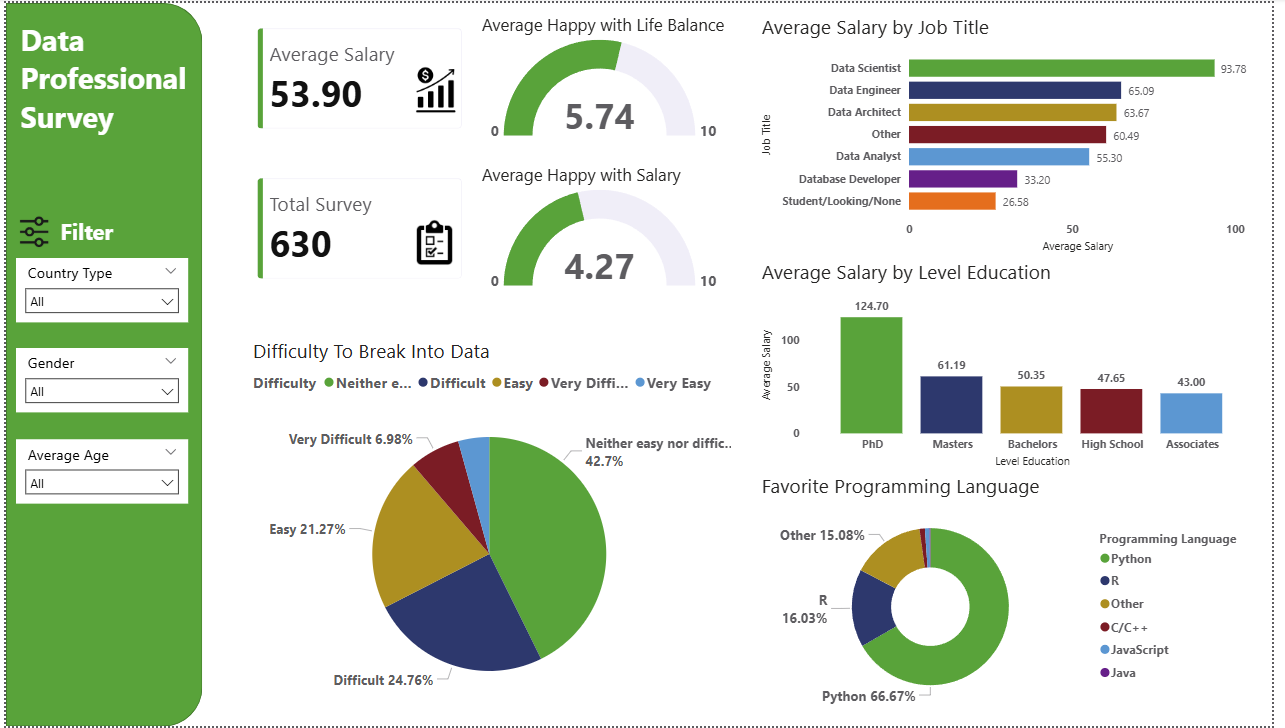

This screenshot's page, from the dashboard's own definition file:
{"tool":"powerbi","page":{"name":"Page 1","canvas":[1400,800],"ordinal":0},"visuals":[{"type":"shape","box":[0,0,217.1,800],"z":0},{"type":"textbox","box":[11.4,14.3,217.1,162.9],"z":1000},{"type":"cardVisual","fields":{"Data":["Avg(Data Professional Survey.Average Salary)"]},"box":[261.4,11.4,260,145.7],"z":2000},{"type":"gauge","title":"Average Happy with Salary","fields":{"Y":["Avg(Data Professional Survey.Q6 - How Happy are you in your Current Position with the following? (Salary))"],"MinValue":["Min(Data Professional Survey.Q6 - How Happy are you in your Current Position with the following? (Salary))"],"MaxValue":["Max(Data Professional Survey.Q6 - How Happy are you in your Current Position with the following? (Salary))"]},"box":[521.4,177.1,280,145.7],"z":3000},{"type":"gauge","title":"Average Happy with Life Balance","fields":{"Y":["Avg(Data Professional Survey.Q6 - How Happy are you in your Current Position with the following? (Work/Life Balance))"],"MinValue":["Min(Data Professional Survey.Q6 - How Happy are you in your Current Position with the following? (Work/Life Balance))"],"MaxValue":["Max(Data Professional Survey.Q6 - How Happy are you in your Current Position with the following? (Work/Life Balance))"]},"box":[521.4,11.4,280,145.7],"z":4000},{"type":"cardVisual","fields":{"Data":["CountNonNull(Data Professional Survey.Unique ID)"]},"box":[261.4,177.1,260,145.7],"z":5000},{"type":"barChart","title":"Average Salary by Job Title","fields":{"Category":["Data Professional Survey.Q1 - Which Title Best Fits your Current Role?.1"],"Y":["Avg(Data Professional Survey.Average Salary)"],"Series":["Data Professional Survey.Q1 - Which Title Best Fits your Current Role?.1"]},"box":[830,11.4,557.1,270],"z":6000},{"type":"donutChart","title":"Favorite Programming Language","fields":{"Category":["Data Professional Survey.Q5 - Favorite Programming Language.1"],"Y":["CountNonNull(Data Professional Survey.Unique ID)"]},"box":[830,518.6,557.1,270],"z":7000},{"type":"columnChart","title":"Average Salary by Level Education","fields":{"Category":["Data Professional Survey.Q12 - Highest Level of Education"],"Y":["Avg(Data Professional Survey.Average Salary)"],"Series":["Data Professional Survey.Q12 - Highest Level of Education"]},"box":[830,281.4,557.1,237.1],"z":8000},{"type":"slicer","fields":{"Values":["Data Professional Survey.Q11 - Which Country do you live in?.1"]},"box":[11.4,281.4,190,71.4],"z":9000},{"type":"slicer","fields":{"Values":["Data Professional Survey.Q9 - Male/Female?"]},"box":[11.4,381.4,190,71.4],"z":10000},{"type":"slicer","fields":{"Values":["Data Professional Survey.Age (Bins)"]},"box":[11.4,482.9,190,71.4],"z":11000},{"type":"pieChart","title":"Difficulty To Break Into Data","fields":{"Category":["Data Professional Survey.Q7 - How difficult was it for you to break into Data?"],"Y":["CountNonNull(Data Professional Survey.Q7 - How difficult was it for you to break into Data?)"]},"box":[268.6,368.6,532.9,420],"z":12000},{"type":"textbox","box":[55.7,232.9,85.7,51.4],"z":13000},{"type":"image","box":[449.1,70.9,51.8,50.9],"z":14000},{"type":"image","box":[448.5,236.2,52.3,56.2],"z":15000},{"type":"image","box":[10,232.9,42.9,41.4],"z":16000}]}

Visuals, with their boxes in screenshot pixels (x1, y1, x2, y2), scaled from the page's 1400x800 canvas onto the 1285x728 screenshot:
shape: locate(0, 0, 199, 727)
textbox: locate(10, 13, 210, 161)
cardVisual - Avg(Data Professional Survey.Average Salary): locate(240, 10, 479, 143)
"Average Happy with Salary" gauge: locate(479, 161, 736, 294)
"Average Happy with Life Balance" gauge: locate(479, 10, 736, 143)
cardVisual - CountNonNull(Data Professional Survey.Unique ID): locate(240, 161, 479, 294)
"Average Salary by Job Title" barChart: locate(762, 10, 1273, 256)
"Favorite Programming Language" donutChart: locate(762, 472, 1273, 718)
"Average Salary by Level Education" columnChart: locate(762, 256, 1273, 472)
slicer - Data Professional Survey.Q11 - Which Country do you live in?.1: locate(10, 256, 185, 321)
slicer - Data Professional Survey.Q9 - Male/Female?: locate(10, 347, 185, 412)
slicer - Data Professional Survey.Age (Bins): locate(10, 439, 185, 504)
"Difficulty To Break Into Data" pieChart: locate(247, 335, 736, 718)
textbox: locate(51, 212, 130, 259)
image: locate(412, 65, 460, 111)
image: locate(412, 215, 460, 266)
image: locate(9, 212, 49, 250)
